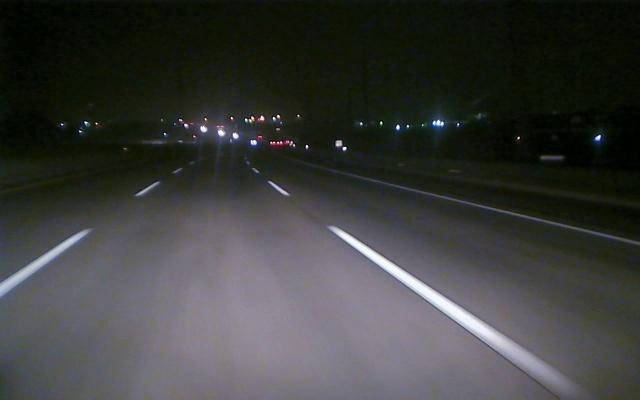lane: (269, 181, 597, 399), (2, 184, 157, 296), (389, 182, 640, 248)
